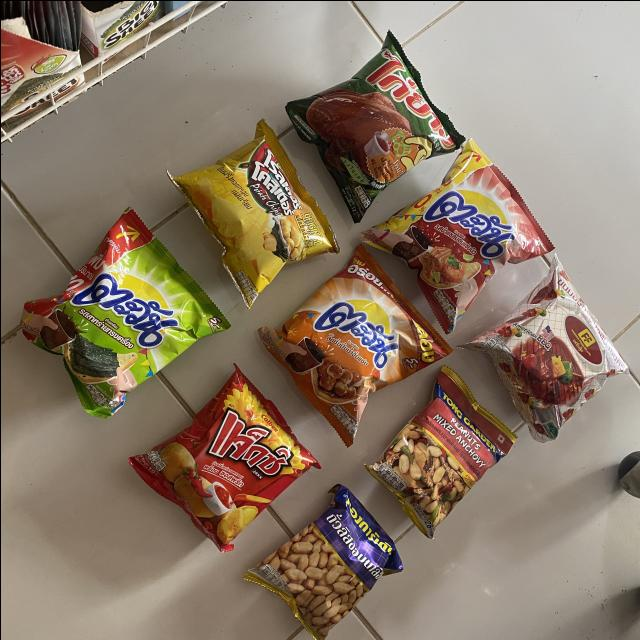plastik: (19, 206, 229, 416), (257, 244, 452, 445), (357, 139, 553, 332), (127, 365, 320, 551), (284, 31, 464, 222), (168, 119, 338, 307), (460, 254, 626, 441), (365, 365, 516, 537), (244, 483, 403, 640)
